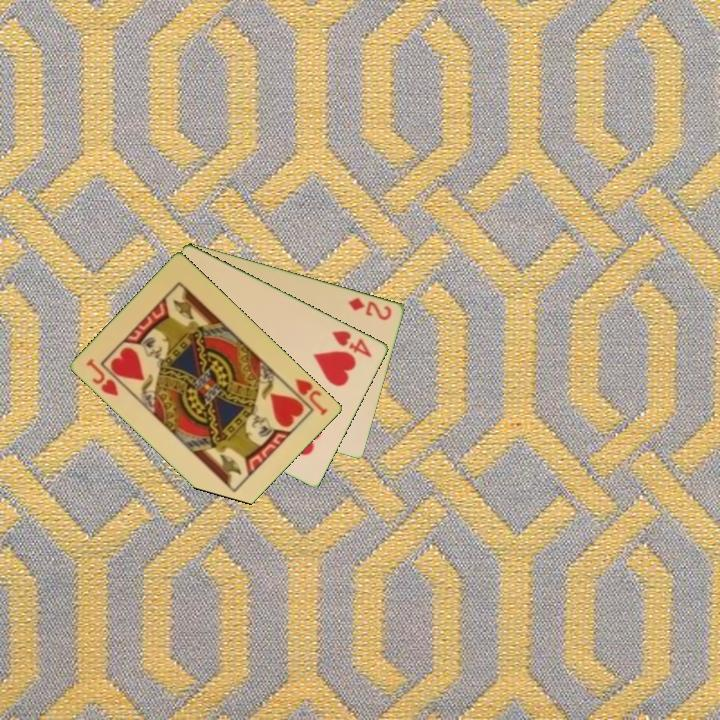2d: (345, 293, 395, 323)
4h: (328, 327, 375, 360)
Jh: (292, 375, 331, 419), (83, 355, 122, 399)
